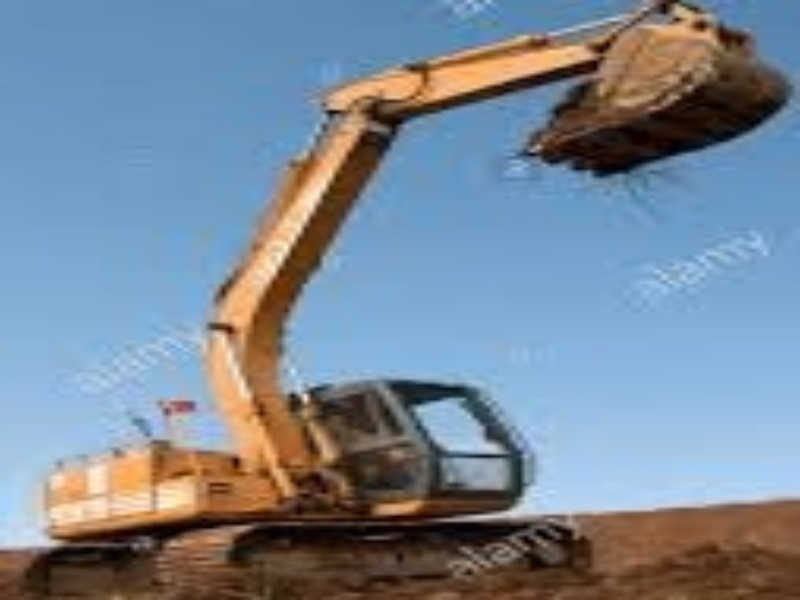wajueji: (14, 268, 644, 600)
